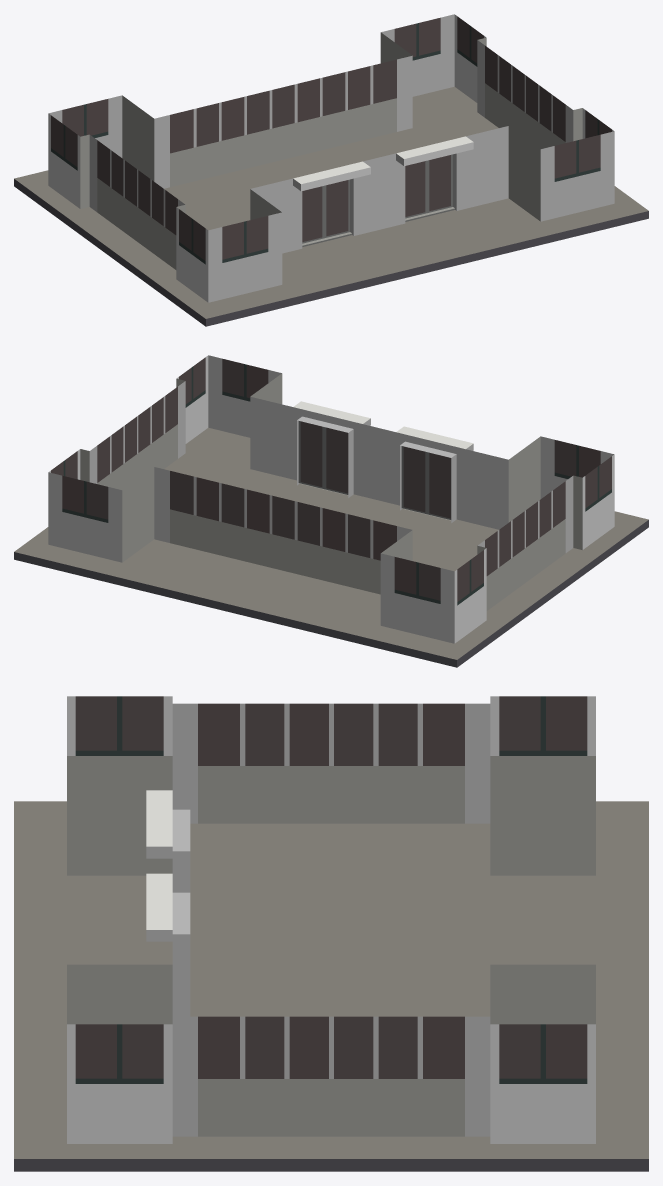
Rendered from TB_CITY_Skysc_K_Bottom_WarmGray.FBX.
3 renders of one model, top to bottom at view 1: azimuth 30°, elevation 25°; view 2: azimuth 150°, elevation 25°; view 3: azimuth 270°, elevation 25°, orthographic. The views are drawn at different scales.
Visible parts, largest first — view 1: TB_CITY_Skysc_K_Bottom_WarmGray; view 2: TB_CITY_Skysc_K_Bottom_WarmGray; view 3: TB_CITY_Skysc_K_Bottom_WarmGray.
Part boxes in pixels (x1,y1,x2,y2): TB_CITY_Skysc_K_Bottom_WarmGray: (14, 14, 648, 326); TB_CITY_Skysc_K_Bottom_WarmGray: (14, 355, 648, 667); TB_CITY_Skysc_K_Bottom_WarmGray: (14, 696, 648, 1171).
Bounding box in the file's own units: 48 × 8.3 × 36.
